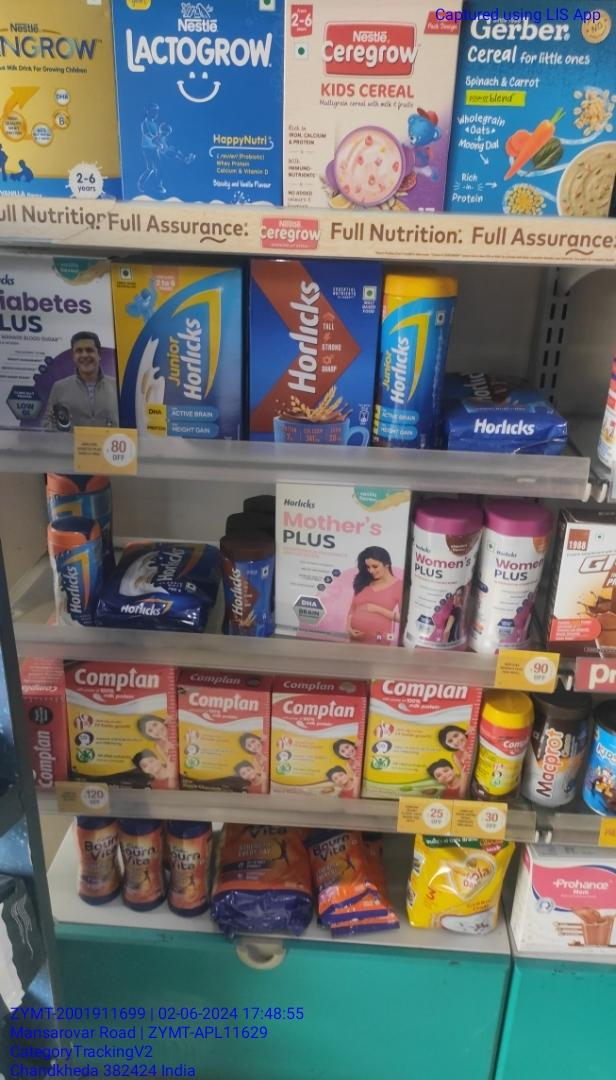BOURN_VITA_200_G_JAR: (121, 824, 163, 910), (78, 817, 116, 910), (169, 826, 206, 915)
COMPLAN_CHOCOLATE_200_GMS_JAR: (479, 704, 532, 797)
COMPLAN_KESAR_BADAM_200_GMS_PACK: (271, 692, 362, 800)
COMPLAN_PISTA_BADAM_500_GMS_PACK: (369, 678, 470, 797)
HORLICKS_JUNIOR_VANILLA_500_GM_JAR: (380, 275, 448, 449)
HORLICK_CHOCOLATE_500_G_PACK: (248, 262, 371, 447)
